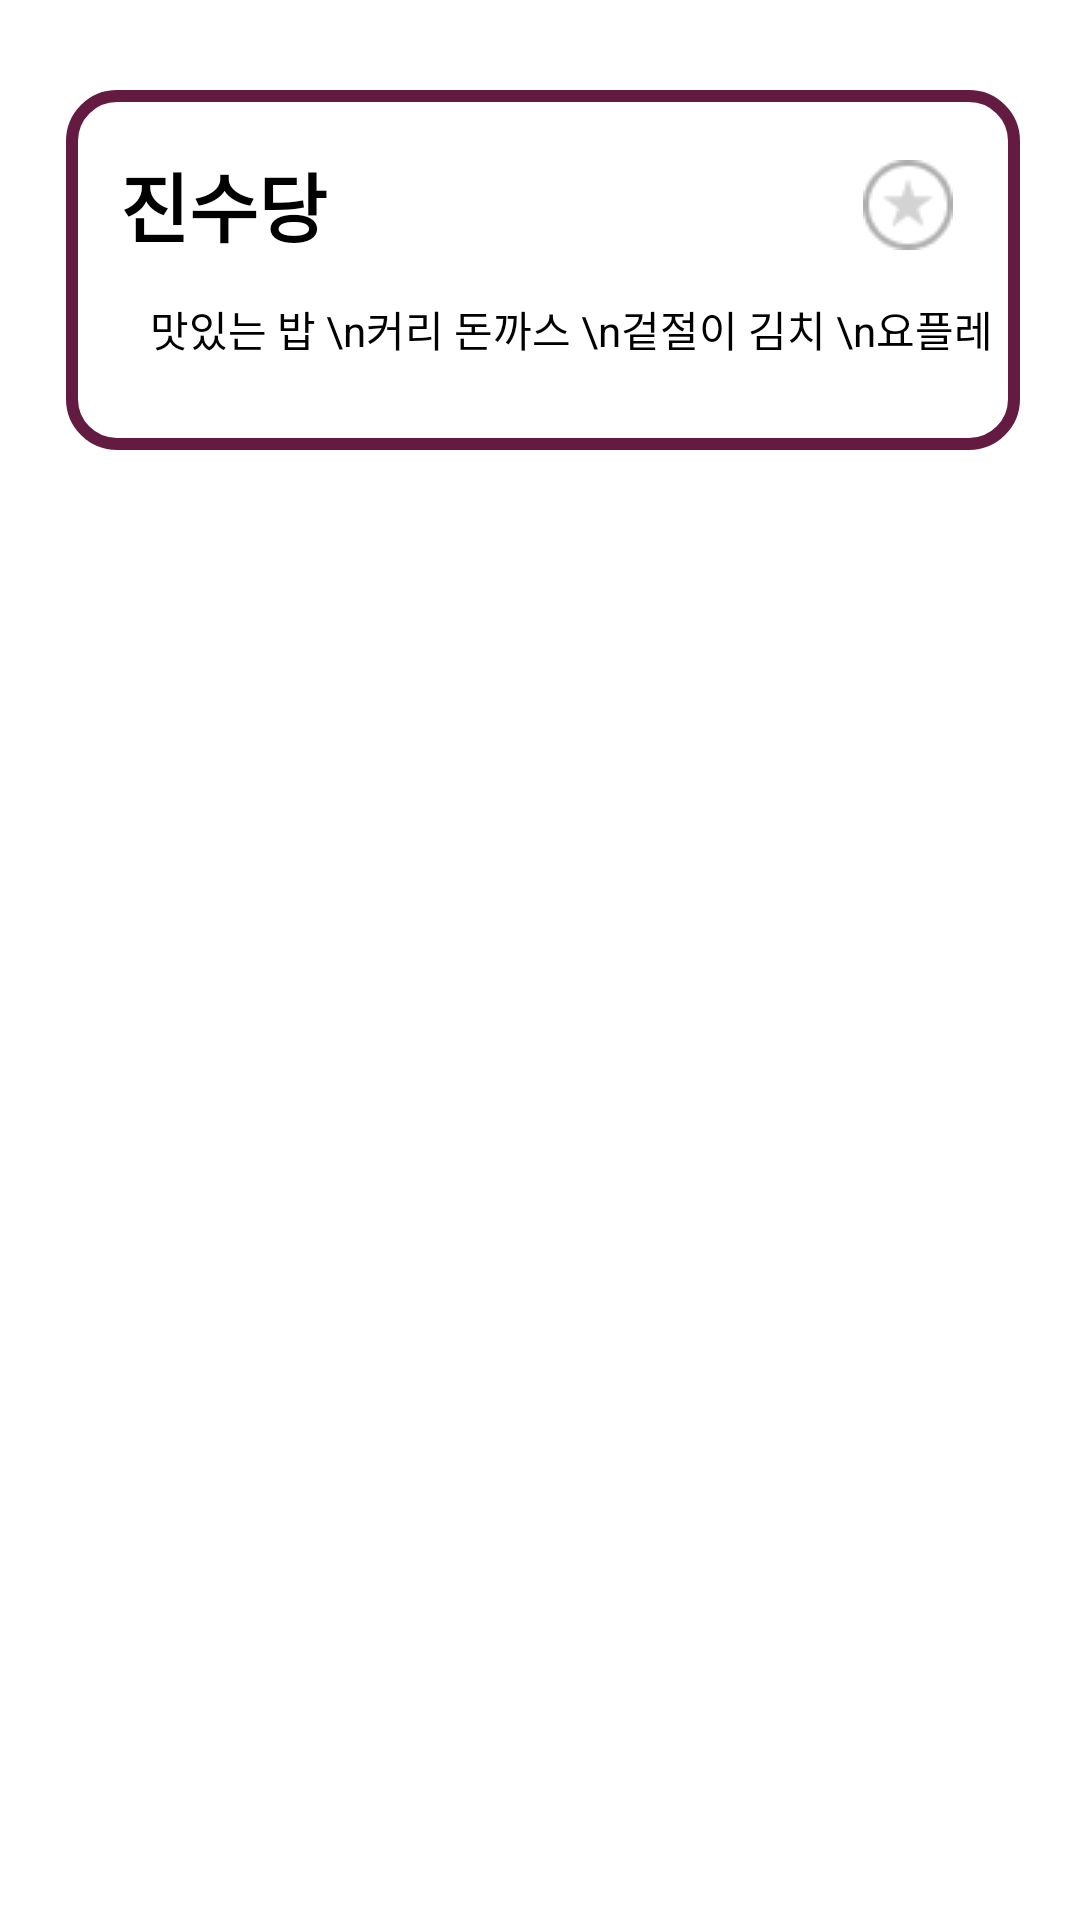

Where to tap for icons on this 1080 x 1920 app screen, as [x,y]:
starnonfill: [908,205]
